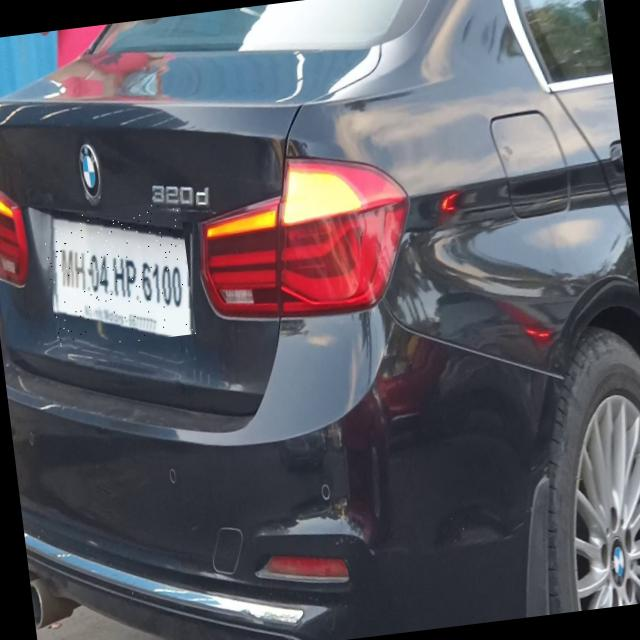Plate: (43, 200, 197, 351)
